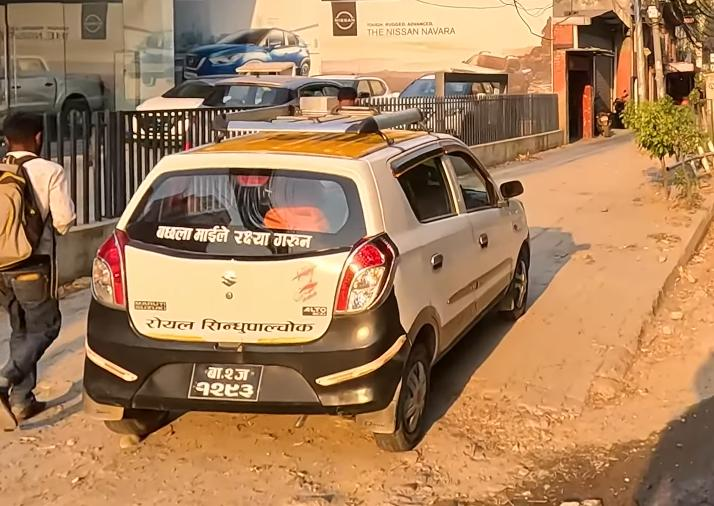taxi: (69, 106, 542, 460)
